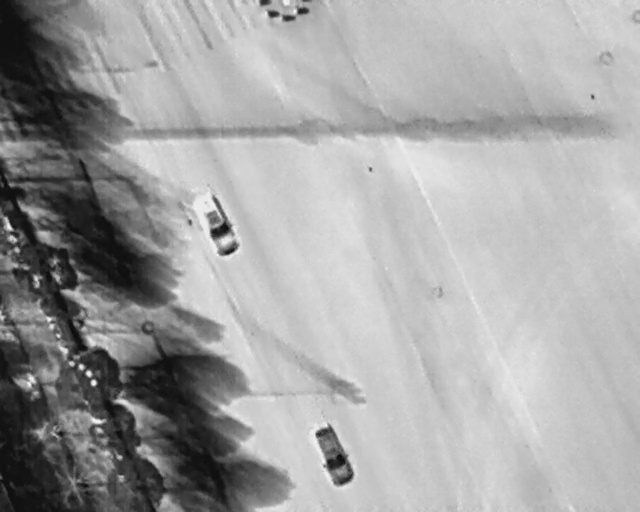Car: (188, 190, 241, 261), (310, 421, 357, 489)
